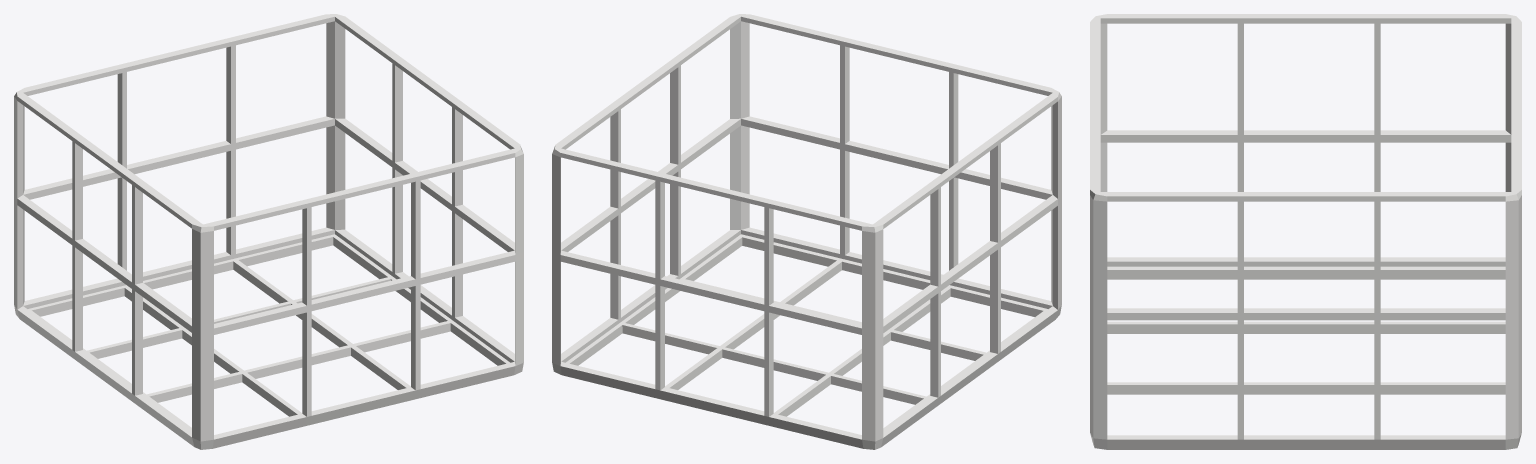
The model's file is Organizer_2.fbx.
3 views of the same model, side by side, from view 1: azimuth 30°, elevation 25°; view 2: azimuth 150°, elevation 25°; view 3: azimuth 270°, elevation 25° (orthographic). The views are drawn at different scales.
Visible parts, largest first — view 1: Organizer_2; view 2: Organizer_2; view 3: Organizer_2.
Boxes of the visible parts, x1,y1,x2,y2 form: Organizer_2: (14, 14, 523, 449); Organizer_2: (552, 14, 1061, 449); Organizer_2: (1090, 14, 1521, 449).
Size of the model in its own units: 28.54 by 28.54 by 18.79.
